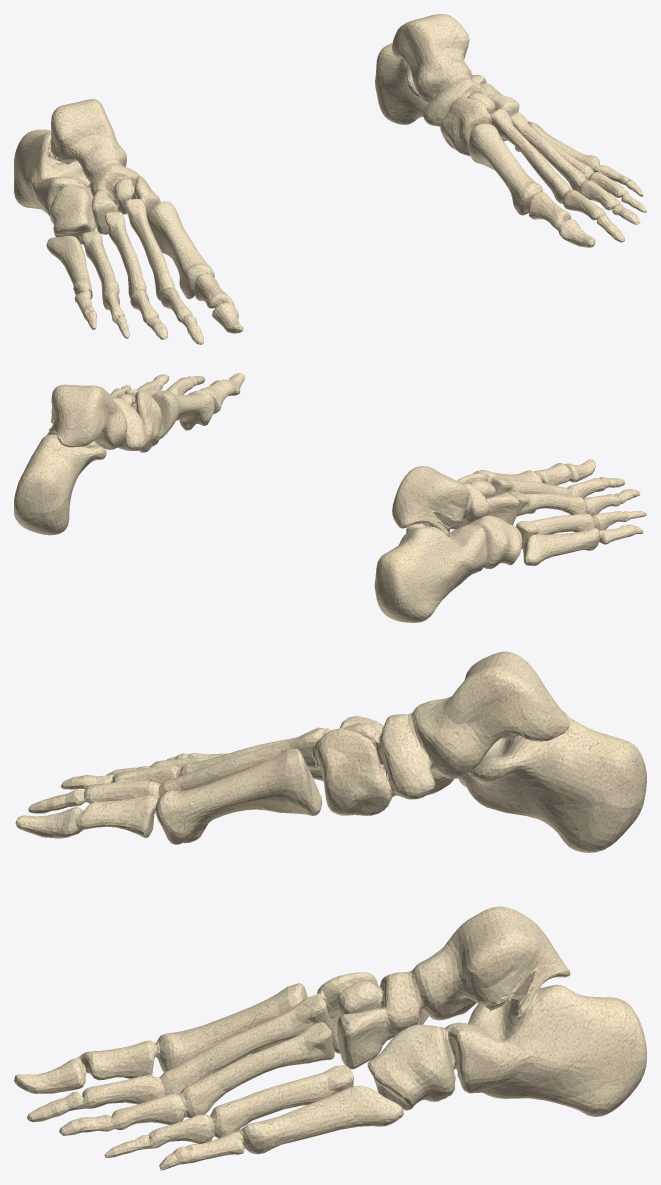
Rendered from feet-bones-sep.fbx.
3 views of the same model, one above another, from view 1: azimuth 30°, elevation 25°; view 2: azimuth 150°, elevation 25°; view 3: azimuth 270°, elevation 25° (orthographic). The views are drawn at different scales.
Parts seen in each view (by area): view 1: polySurface203, polySurface198, polySurface204, polySurface189, polySurface188, polySurface205, polySurface202, polySurface199; view 2: polySurface202, polySurface203, polySurface198, polySurface204, polySurface199, polySurface205, polySurface189, polySurface188; view 3: polySurface198, polySurface189, polySurface203, polySurface199, polySurface202, polySurface188, polySurface204, polySurface205.
Part boxes in pixels (x1,y1,x2,y2): polySurface203: (48, 99, 160, 244); polySurface198: (392, 14, 519, 156); polySurface204: (46, 199, 214, 300); polySurface189: (468, 108, 599, 215); polySurface188: (528, 162, 646, 247); polySurface205: (74, 272, 243, 344); polySurface202: (14, 129, 90, 216); polySurface199: (375, 43, 486, 124); polySurface202: (374, 524, 487, 622); polySurface203: (392, 466, 522, 568); polySurface198: (49, 384, 162, 452); polySurface204: (473, 470, 600, 565); polySurface199: (14, 430, 106, 535); polySurface205: (534, 459, 646, 544); polySurface189: (111, 389, 214, 439); polySurface188: (110, 373, 244, 413); polySurface198: (317, 906, 570, 1110); polySurface189: (157, 983, 403, 1154); polySurface203: (312, 651, 570, 815); polySurface199: (446, 984, 646, 1116); polySurface202: (458, 718, 646, 852); polySurface188: (14, 1040, 249, 1170); polySurface204: (154, 727, 330, 844); polySurface205: (15, 753, 228, 838).
Bounding box in the file's own units: 198 × 43.34 × 131.
1 material, 1 textured.
